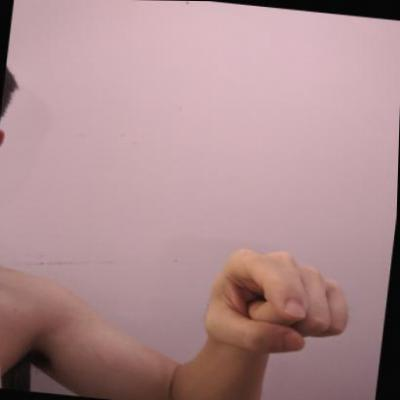hand: (196, 239, 364, 366)
